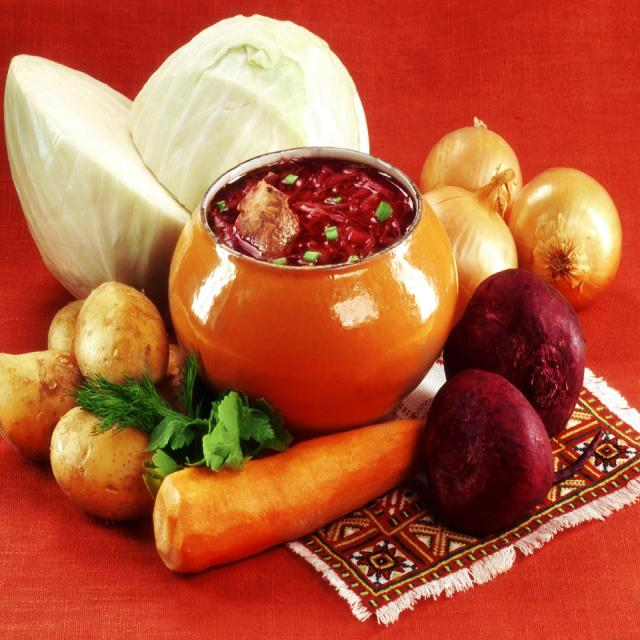beet: (455, 268, 582, 430), (433, 374, 550, 531)
cabbage: (6, 53, 175, 286), (143, 15, 371, 146)
carrot: (159, 420, 427, 562)
onion: (526, 169, 625, 297), (427, 184, 517, 291), (431, 115, 517, 206)
potato: (45, 403, 159, 521), (74, 286, 167, 387), (2, 351, 74, 451)
